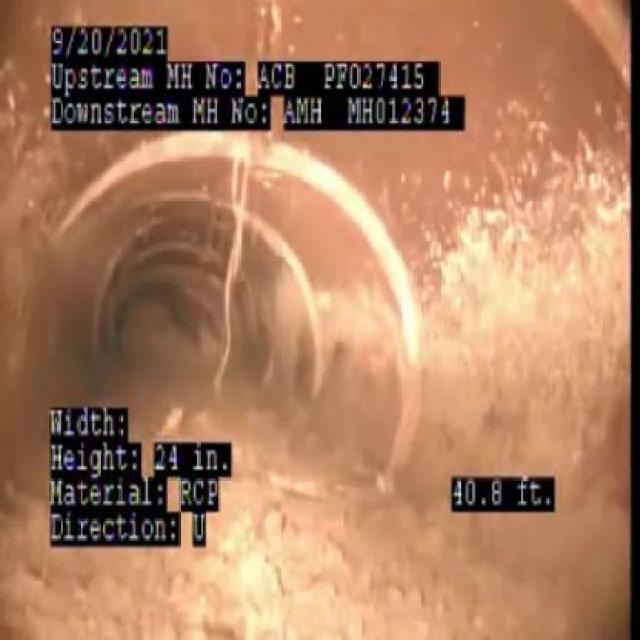Joint offset: (340, 186, 442, 449), (146, 134, 323, 184)
